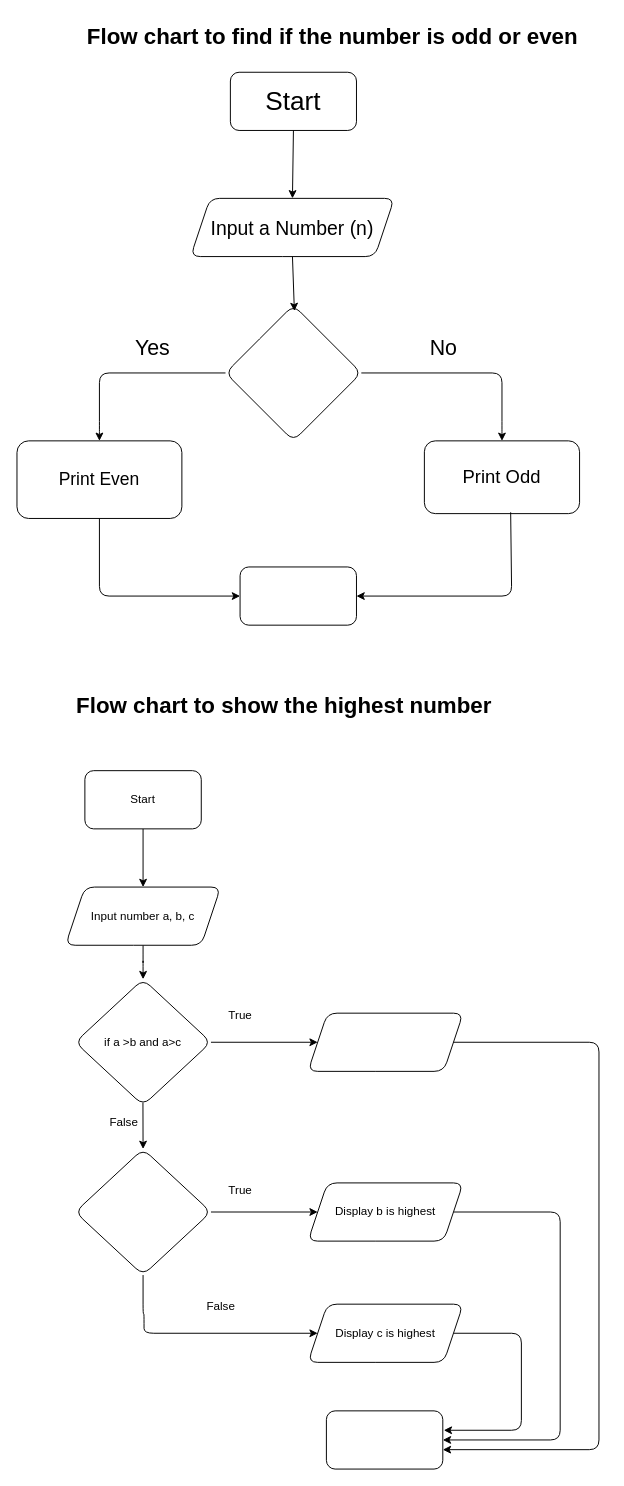
Image size: 624x1486. Some labels were removed from this diagram. The shapes that lost their labels are listed below. From the top down, each one's centre as x and y in pixels, then its label:
At point 293,372: "if n%2 == 0".
At point 297,595: "End".
At point 385,1041: "Display a is highest".
At point 142,1211: "if b >c and b >a".
At point 384,1439: "Stop".
